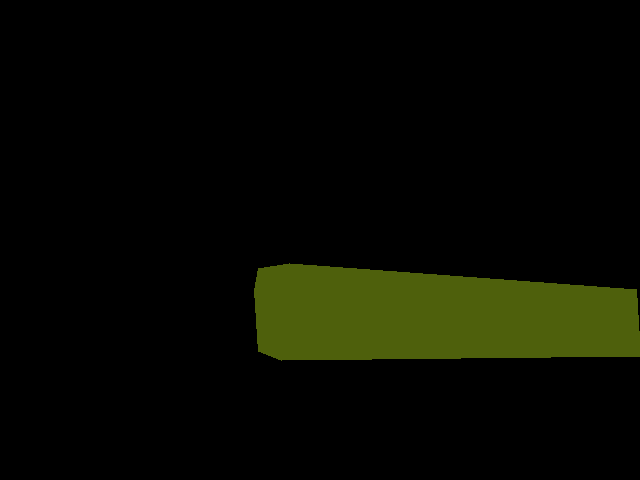Train: (254, 263, 640, 360)
